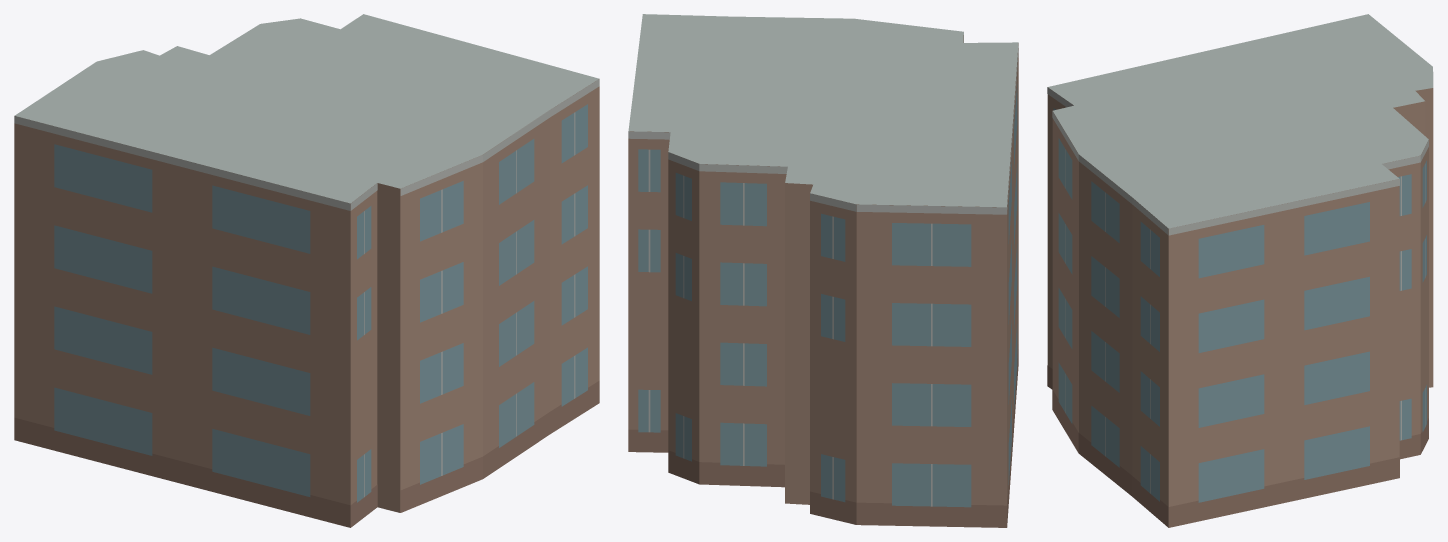
Rendered from survey-upis-32806606.glb.
3 views of the same model, side by side, from view 1: azimuth 30°, elevation 25°; view 2: azimuth 150°, elevation 25°; view 3: azimuth 270°, elevation 25° (orthographic). The views are drawn at different scales.
Visible parts, largest first — view 1: survey-upis-32806606.tmp; view 2: survey-upis-32806606.tmp; view 3: survey-upis-32806606.tmp.
Part boxes in pixels (x1,y1,x2,y2): survey-upis-32806606.tmp: (14,14,599,527); survey-upis-32806606.tmp: (628,14,1018,527); survey-upis-32806606.tmp: (1047,14,1433,527).
Bounding box in the file's own units: 16.16 × 10.5 × 12.28.
